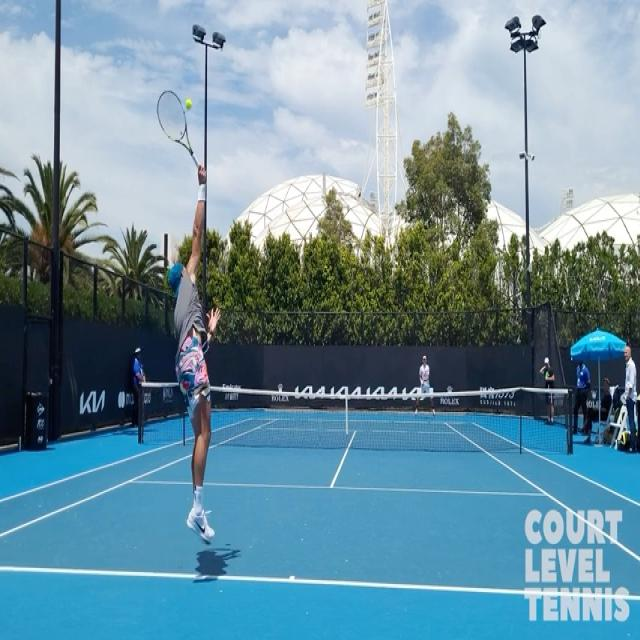serve_hit: (130, 84, 253, 572)
